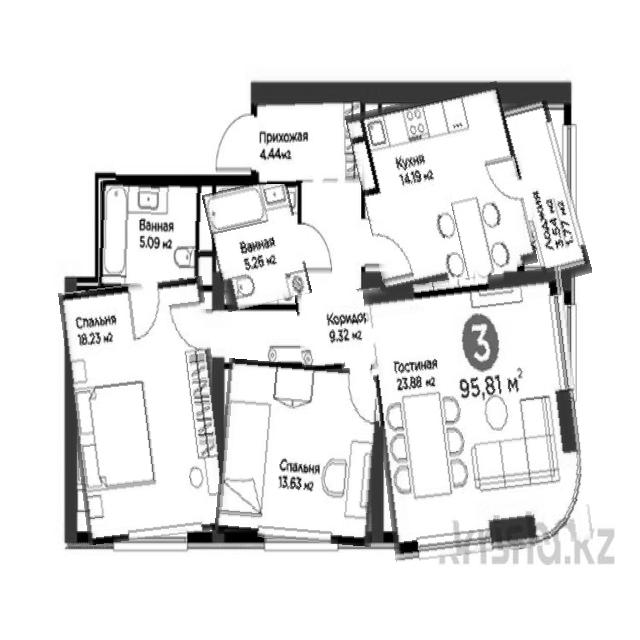balcony: (508, 93, 580, 283)
bathroom: (208, 180, 306, 308), (99, 181, 202, 289)
hallway: (254, 99, 364, 184), (297, 288, 387, 369)
kitchen: (355, 89, 529, 290)
living_room: (370, 272, 585, 557), (66, 280, 225, 542), (217, 361, 382, 544)
